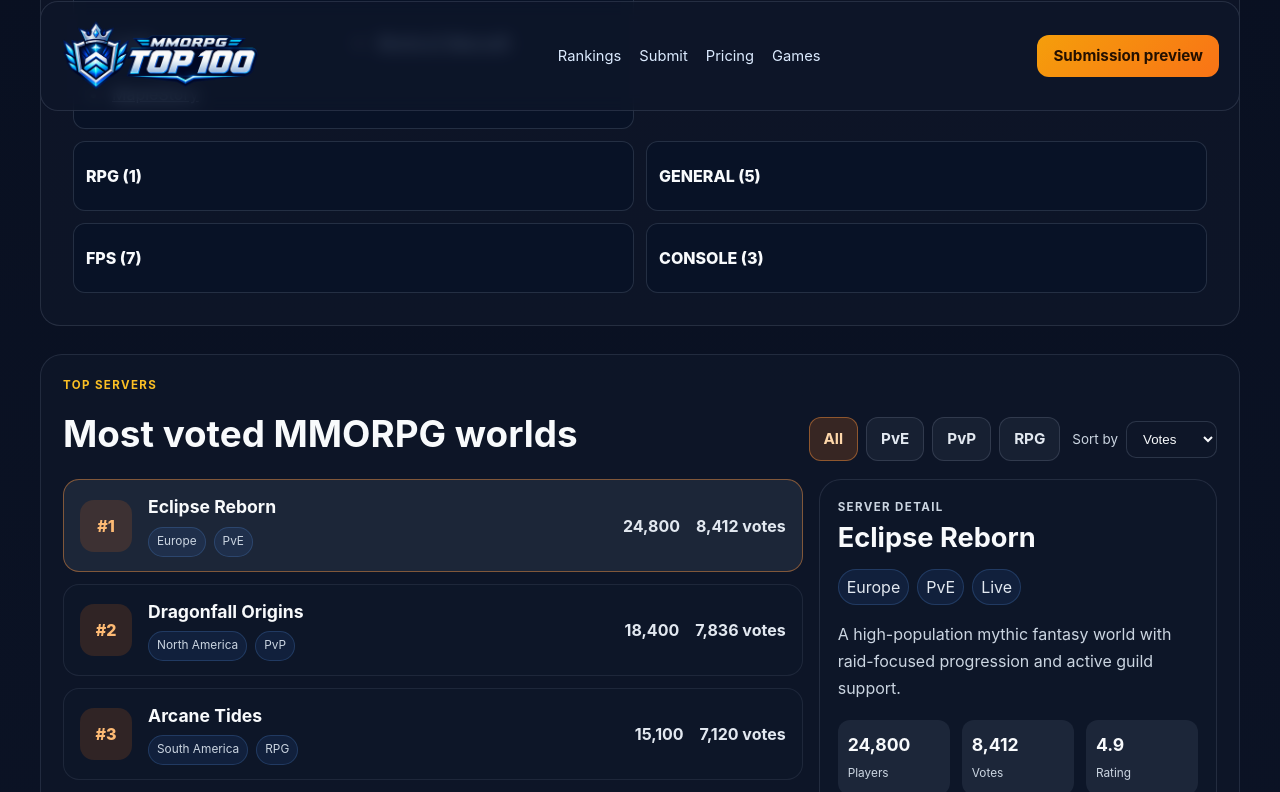
Test: App › keeps the legacy sample fixture isolated to injected tests
(page scrolled)
What coordinates should you click on to do the following:
click the button "PvP"
I would click on:
 (962, 439)
Its box is [932,417,991,462].
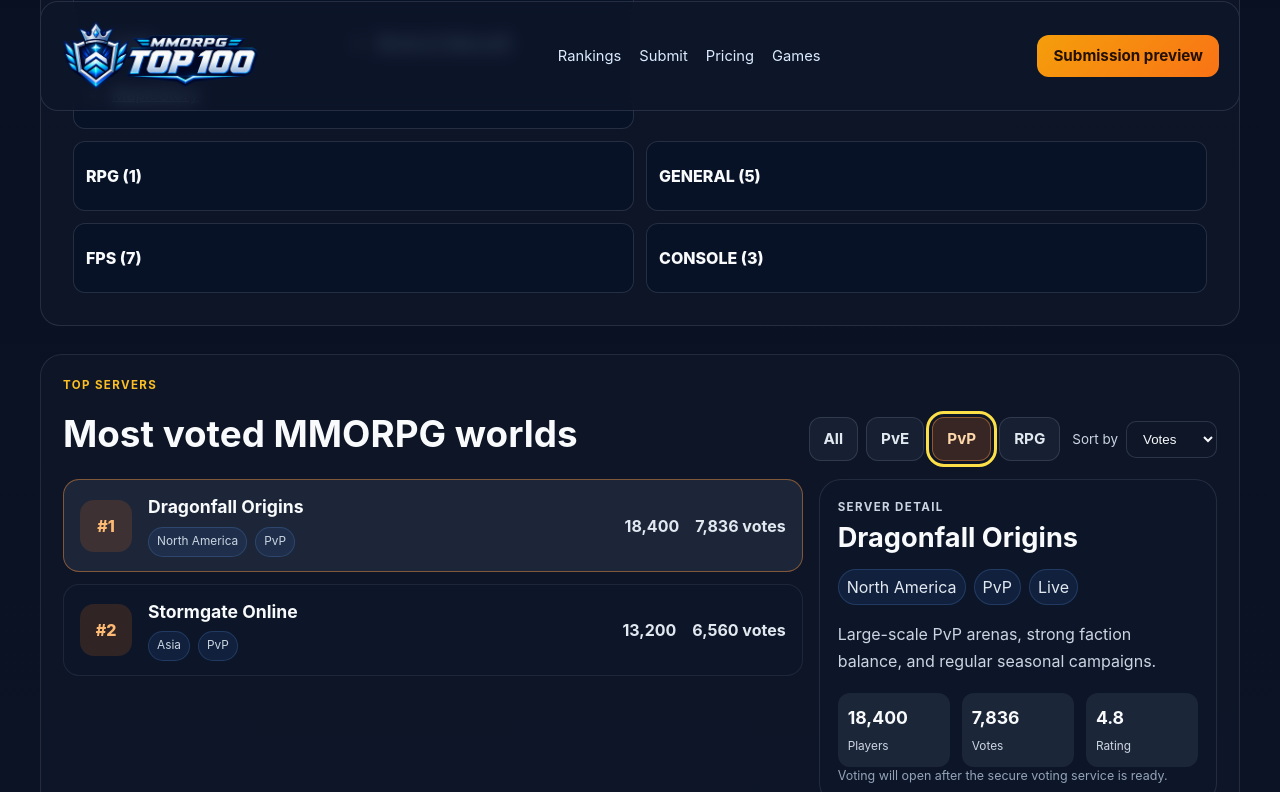
Result: the element named "selected server details" shows "Dragonfall Origins" at [838,521,1078,554]
